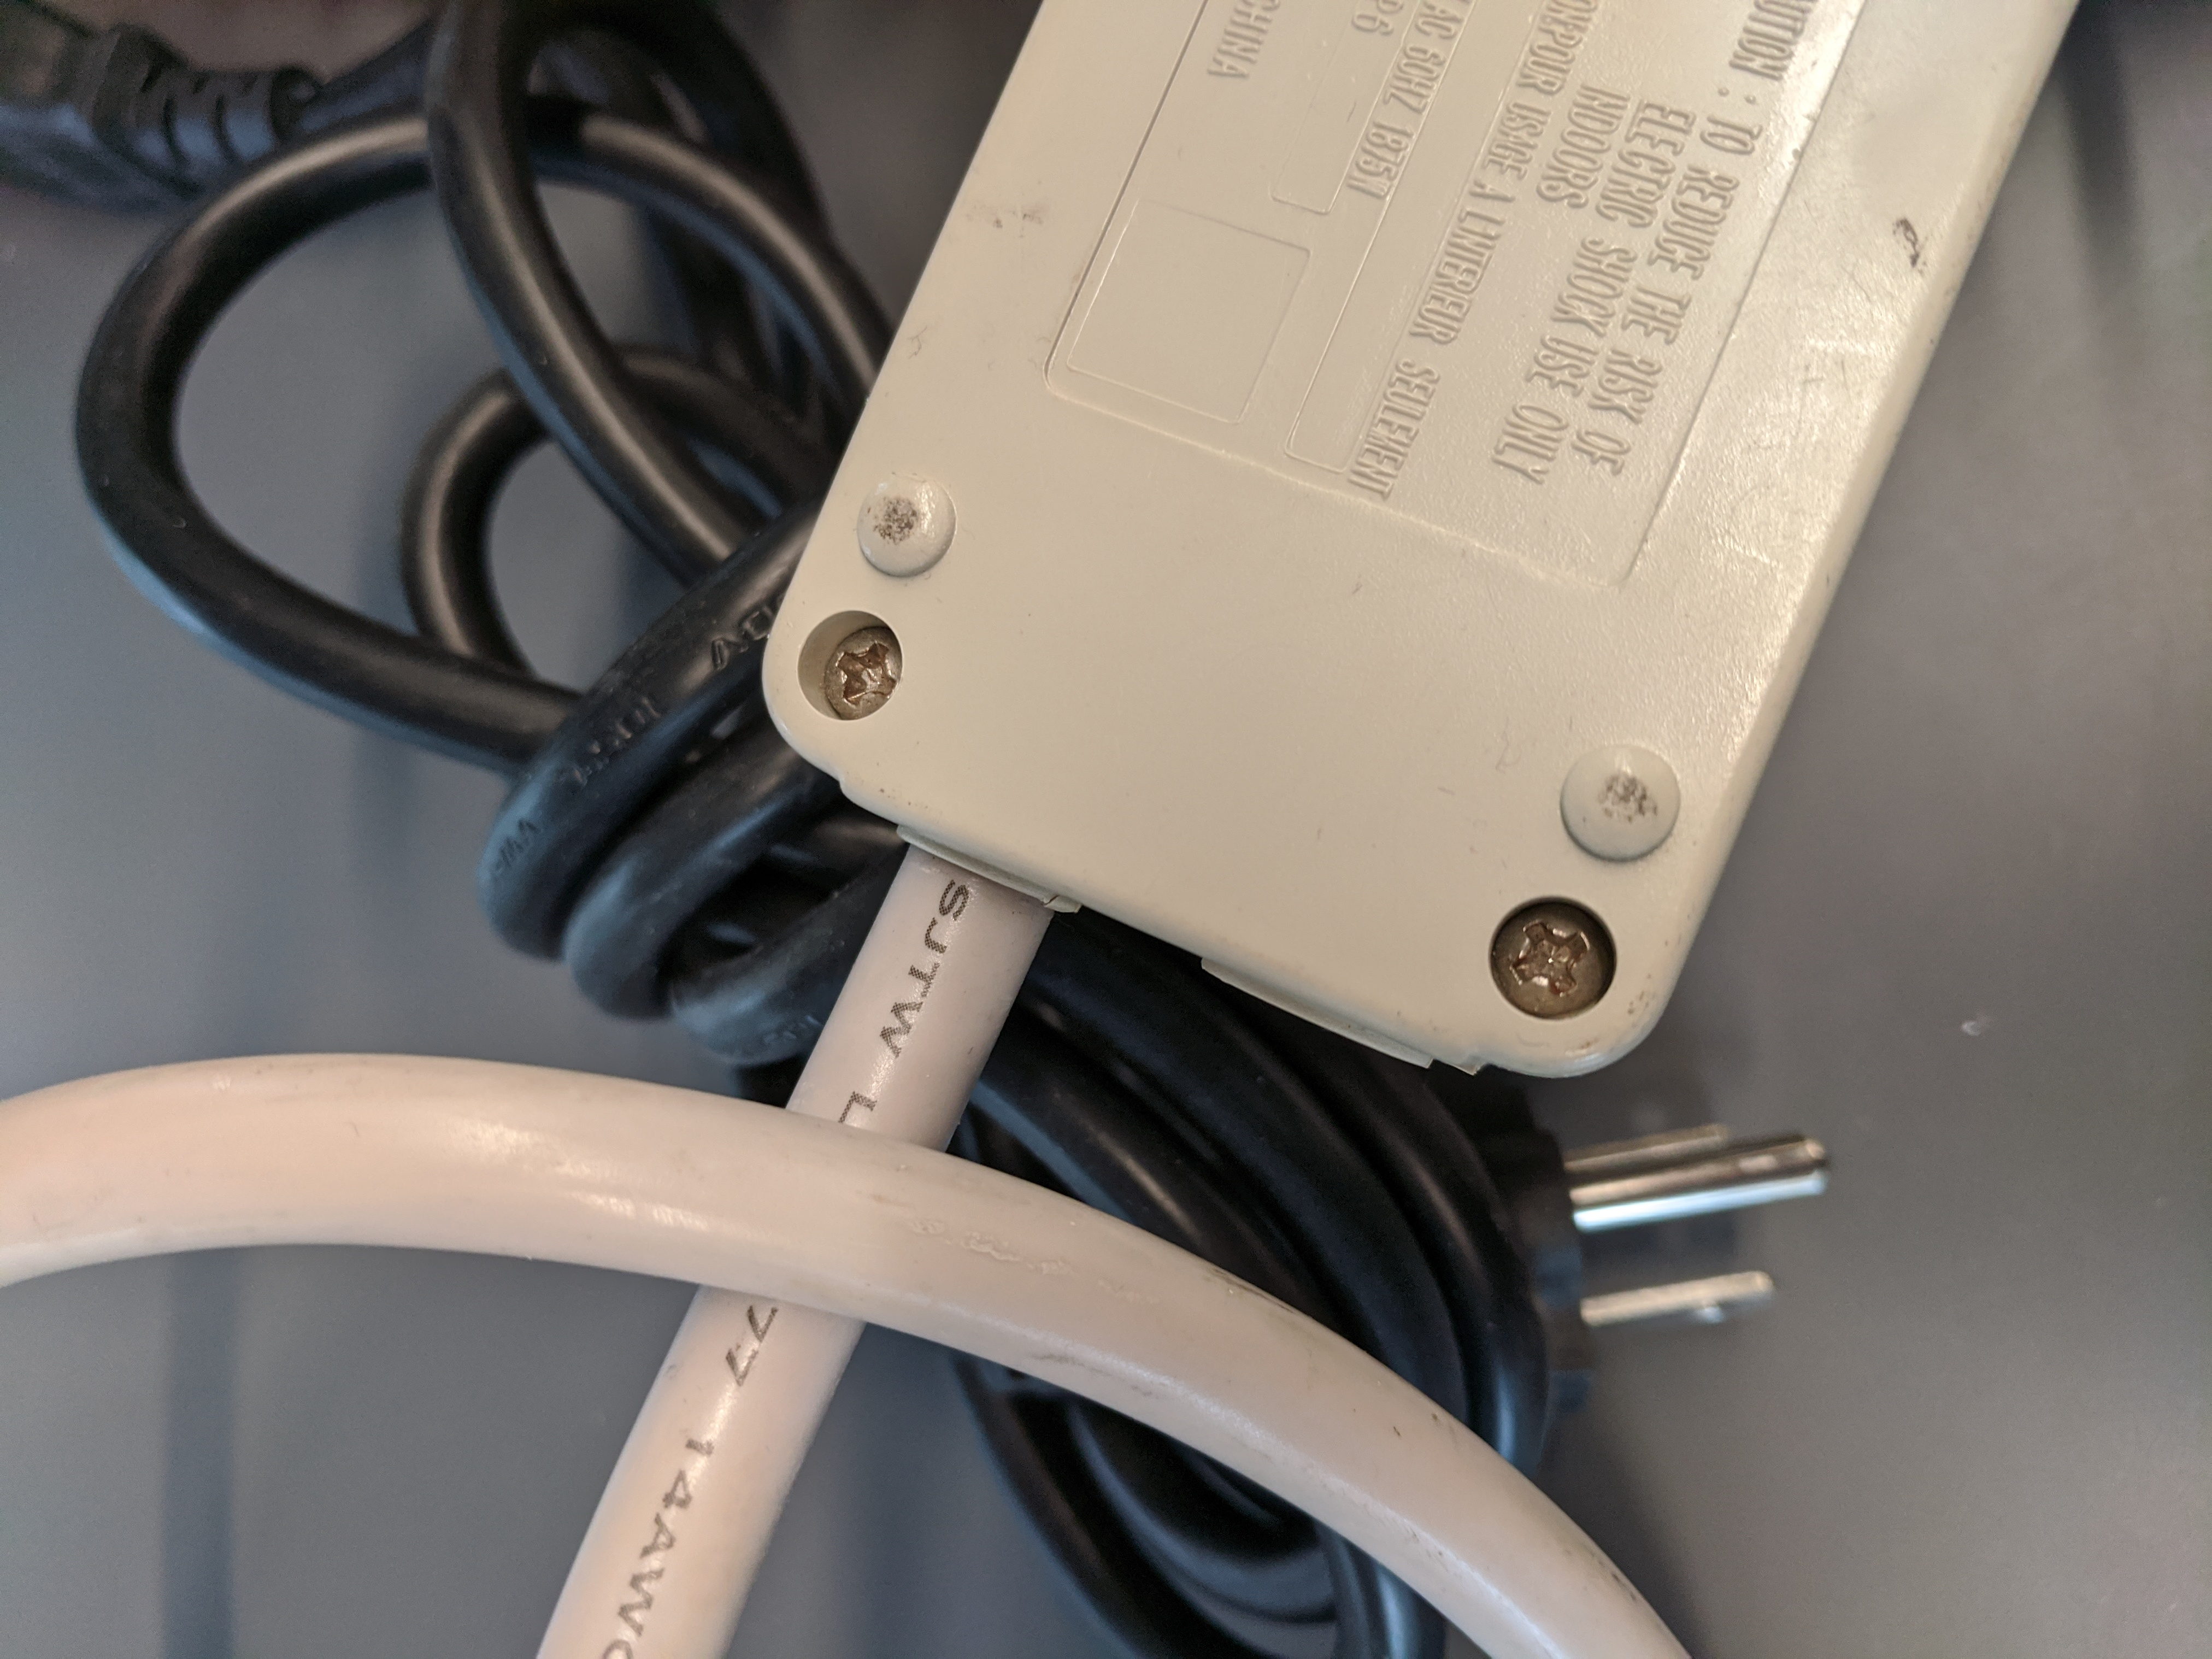cross_recessed_screw: (1477, 882, 1623, 1023), (798, 603, 920, 720)
